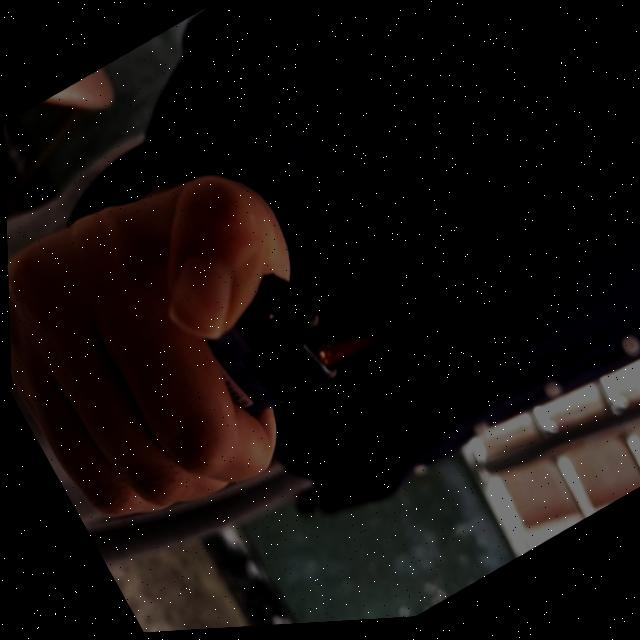Fire: (307, 306, 405, 384)
